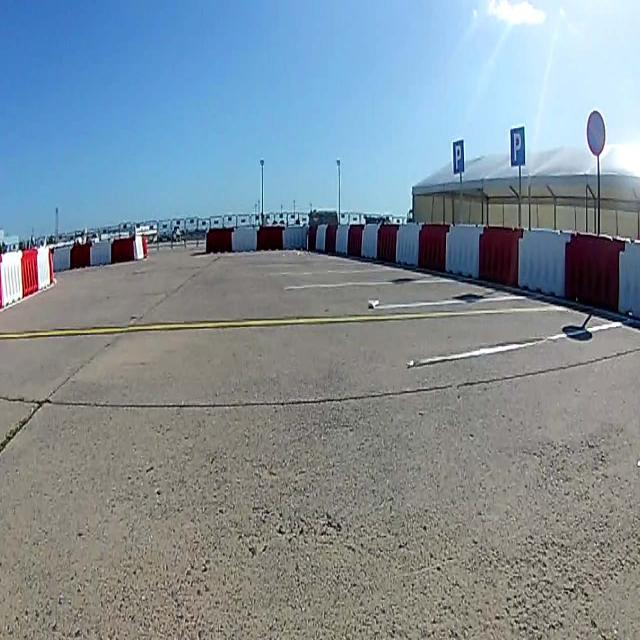park: (511, 126, 525, 166), (452, 139, 464, 173)
parkyasak: (586, 110, 606, 158)
